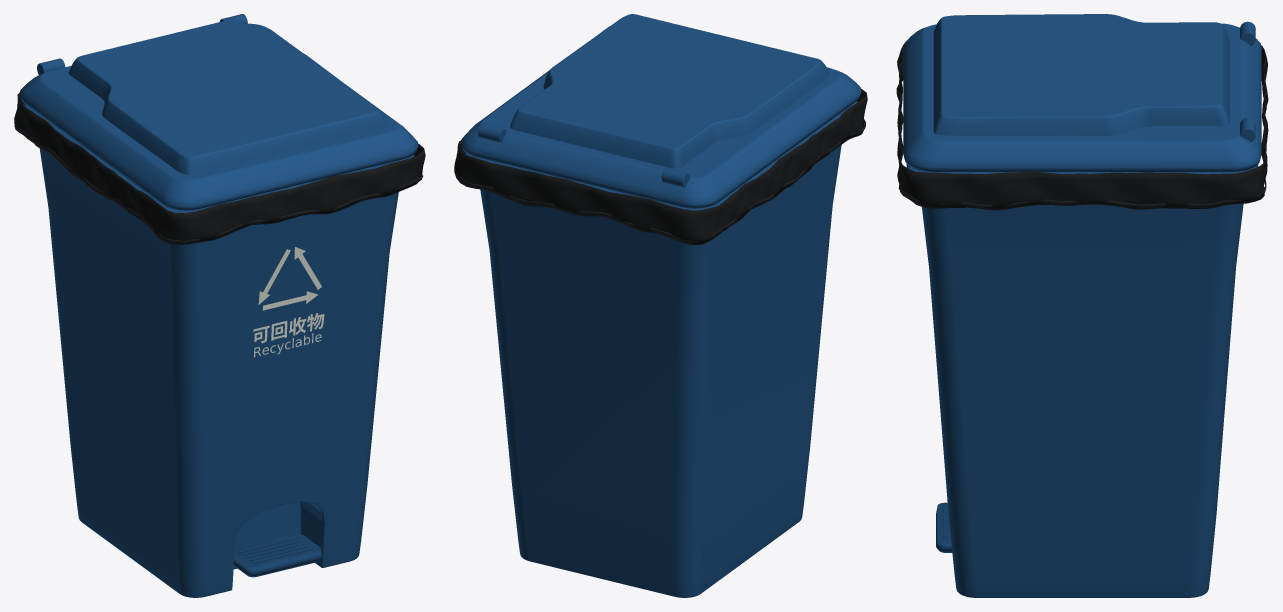
File: lod1_source.glb
The picture shows the model from 3 angles, left to right: view 1: azimuth 30°, elevation 25°; view 2: azimuth 150°, elevation 25°; view 3: azimuth 270°, elevation 25°; orthographic projection. The views are drawn at different scales.
Visible parts, largest first — view 1: Continuous tapered rounded bin shell, Lid raised deck with stepped rear shoulders, Shaped lid lip and sloping outer shoulder, Irregular black liner folded over the upper rim, Recessed rounded front foot pedal, Soft folded lower edge of the liner, Molded collar below the folded liner, Visible Chinese category print; view 2: Continuous tapered rounded bin shell, Lid raised deck with stepped rear shoulders, Shaped lid lip and sloping outer shoulder, Irregular black liner folded over the upper rim, Soft folded lower edge of the liner, Molded collar below the folded liner; view 3: Continuous tapered rounded bin shell, Lid raised deck with stepped rear shoulders, Shaped lid lip and sloping outer shoulder, Irregular black liner folded over the upper rim, Soft folded lower edge of the liner, Recessed rounded front foot pedal, Molded collar below the folded liner.
Boxes of the visible parts, left/top/right/bottom form: Continuous tapered rounded bin shell: left=39, top=148, right=398, bottom=597; Lid raised deck with stepped rear shoulders: left=68, top=19, right=386, bottom=175; Shaped lid lip and sloping outer shoulder: left=19, top=23, right=418, bottom=210; Irregular black liner folded over the upper rim: left=14, top=93, right=425, bottom=244; Recessed rounded front foot pedal: left=233, top=534, right=322, bottom=577; Soft folded lower edge of the liner: left=14, top=125, right=423, bottom=243; Molded collar below the folded liner: left=23, top=103, right=414, bottom=213; Visible Chinese category print: left=253, top=313, right=324, bottom=343; Continuous tapered rounded bin shell: left=480, top=145, right=841, bottom=597; Lid raised deck with stepped rear shoulders: left=510, top=14, right=829, bottom=168; Shaped lid lip and sloping outer shoulder: left=460, top=26, right=861, bottom=208; Irregular black liner folded over the upper rim: left=454, top=89, right=867, bottom=245; Soft folded lower edge of the liner: left=457, top=119, right=865, bottom=242; Molded collar below the folded liner: left=464, top=101, right=857, bottom=210; Continuous tapered rounded bin shell: left=922, top=203, right=1243, bottom=597; Lid raised deck with stepped rear shoulders: left=933, top=14, right=1229, bottom=135; Shaped lid lip and sloping outer shoulder: left=903, top=23, right=1261, bottom=171; Irregular black liner folded over the upper rim: left=896, top=44, right=1268, bottom=210; Soft folded lower edge of the liner: left=898, top=73, right=1266, bottom=208; Recessed rounded front foot pedal: left=936, top=502, right=952, bottom=552; Molded collar below the folded liner: left=906, top=164, right=1258, bottom=174.
Bounding box in the file's own units: 0.5036 × 0.824 × 0.5693.
